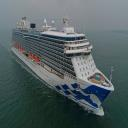cruises: (11, 12, 116, 114)
